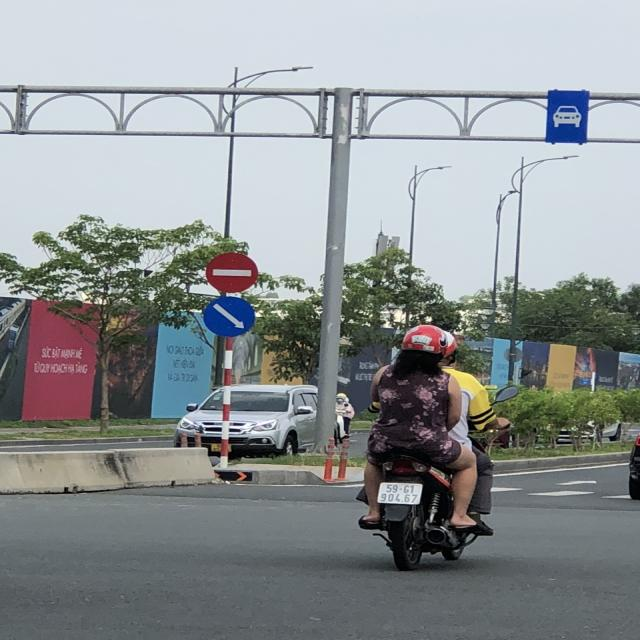Bien bao cam di nguoc chieu: (194, 249, 261, 296)
